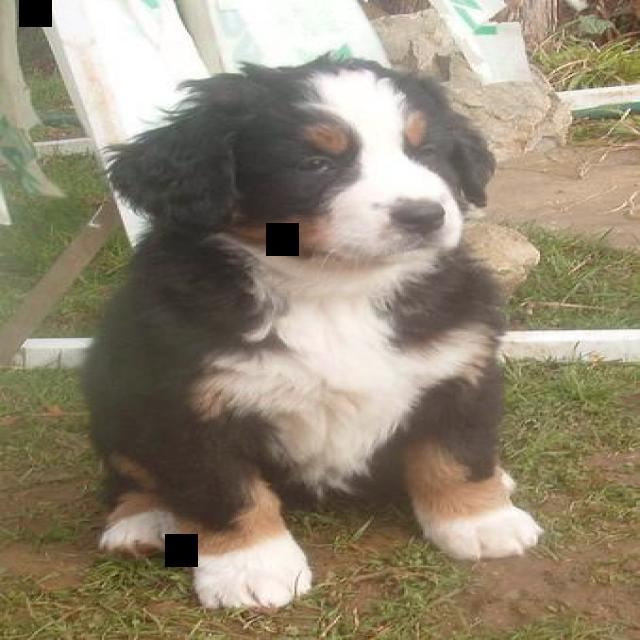puppy-dog: (68, 59, 541, 618)
